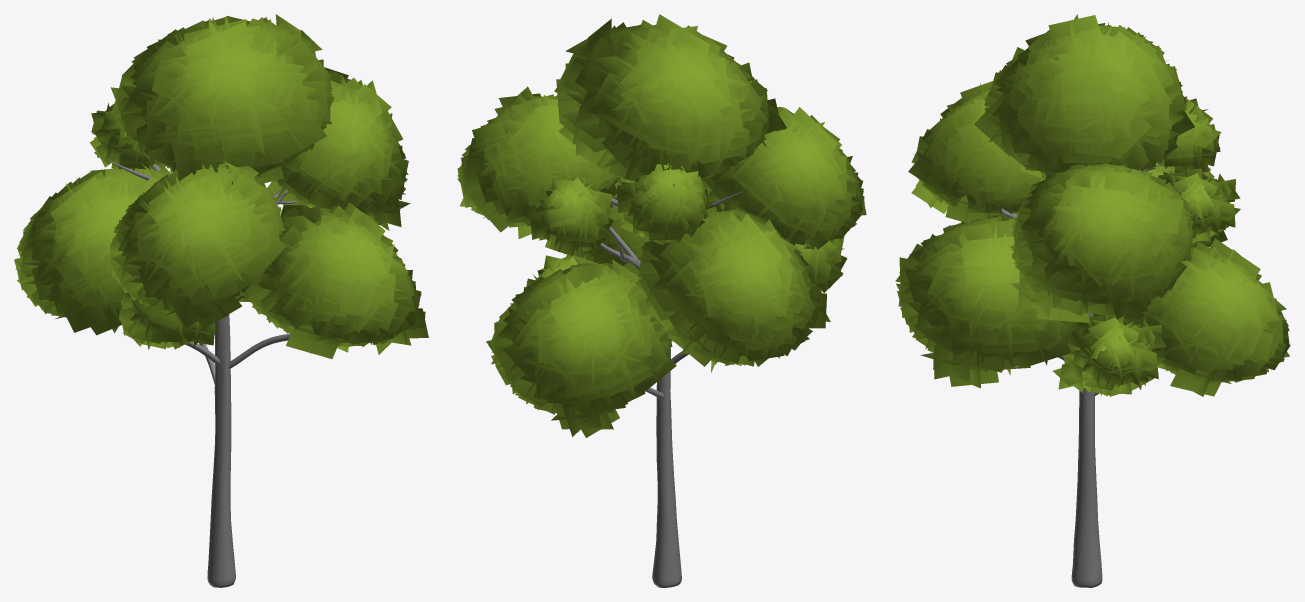
Rendered from SM_tree_maple_04.fbx.
3 views of the same model, side by side, from view 1: azimuth 30°, elevation 25°; view 2: azimuth 150°, elevation 25°; view 3: azimuth 270°, elevation 25° (orthographic).
Visible parts, largest first — view 1: Group63243; view 2: Group63243; view 3: Group63243.
Part boxes in pixels (x1,y1,x2,y2): Group63243: (14, 14, 428, 587); Group63243: (457, 14, 866, 587); Group63243: (895, 14, 1290, 587).
Size of the model in its own units: 275 by 416 by 264.
